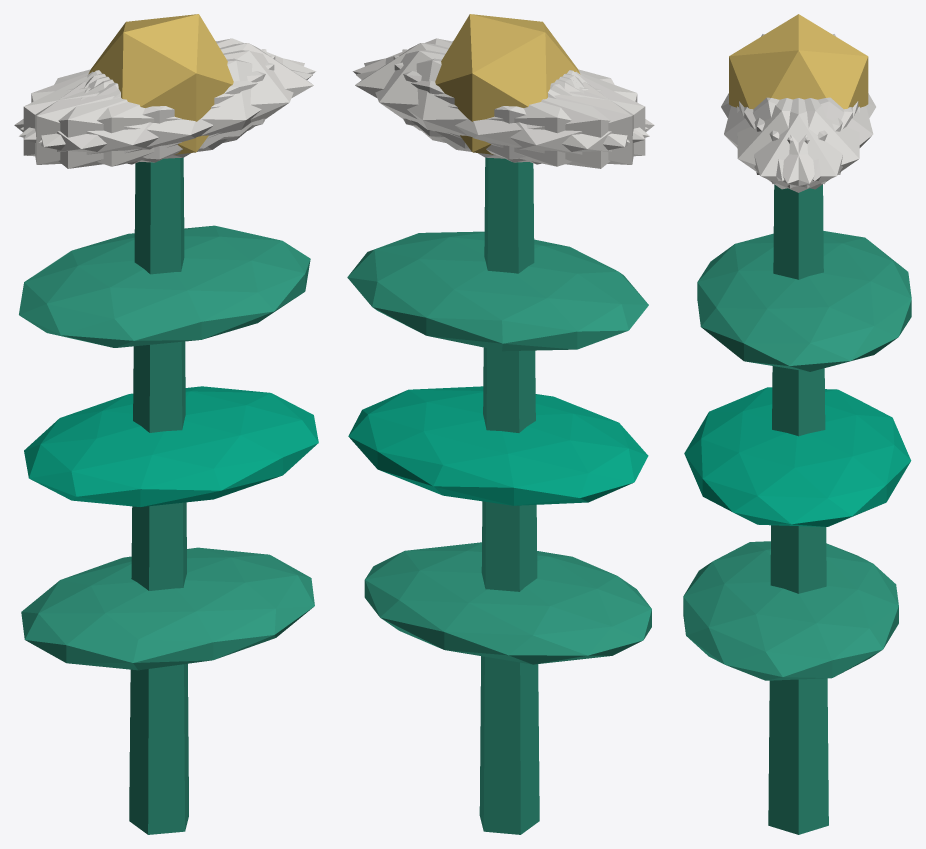
File: acacia-auriculiformis.glb
The picture shows the model from 3 angles, left to right: view 1: azimuth 30°, elevation 25°; view 2: azimuth 150°, elevation 25°; view 3: azimuth 270°, elevation 25°; orthographic projection.
Parts seen in each view (by area): view 1: leaf0, leaf1, stem, leaf2, center, petal1, petal6, petal2, petal5, petal7, petal0, petal4 (+2 smaller); view 2: leaf2, leaf1, stem, leaf0, center, petal8, petal3, petal7, petal4, petal2, petal0, petal5 (+2 smaller); view 3: leaf1, leaf2, leaf0, stem, center, petal0, petal5, petal4, petal1, petal8.
Part boxes in pixels (bbox=[...]): leaf0: bbox=[21, 547, 314, 670]; leaf1: bbox=[24, 386, 318, 506]; stem: bbox=[129, 157, 188, 834]; leaf2: bbox=[19, 225, 310, 347]; center: bbox=[88, 14, 233, 154]; petal1: bbox=[19, 58, 312, 166]; petal6: bbox=[14, 71, 227, 168]; petal2: bbox=[35, 49, 266, 164]; petal5: bbox=[39, 50, 304, 159]; petal7: bbox=[23, 55, 275, 162]; petal0: bbox=[88, 43, 313, 148]; petal4: bbox=[20, 38, 315, 139]; leaf2: bbox=[347, 231, 648, 351]; leaf1: bbox=[348, 386, 648, 505]; stem: bbox=[479, 157, 539, 834]; leaf0: bbox=[364, 542, 651, 664]; center: bbox=[435, 14, 580, 154]; petal8: bbox=[356, 58, 649, 166]; petal3: bbox=[441, 71, 654, 168]; petal7: bbox=[402, 49, 633, 164]; petal4: bbox=[364, 50, 629, 159]; petal2: bbox=[393, 55, 645, 162]; petal0: bbox=[355, 43, 580, 148]; petal5: bbox=[353, 38, 648, 139]; leaf1: bbox=[684, 387, 911, 526]; leaf2: bbox=[697, 231, 911, 371]; leaf0: bbox=[683, 541, 898, 680]; stem: bbox=[768, 184, 828, 834]; center: bbox=[729, 14, 868, 109]; petal0: bbox=[739, 98, 858, 192]; petal5: bbox=[737, 98, 852, 189]; petal4: bbox=[744, 98, 859, 189]; petal1: bbox=[724, 97, 842, 181]; petal8: bbox=[754, 97, 873, 181].
Bounding box in the file's own units: 0.1452 × 0.383 × 0.1005.
